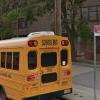Bus: (5, 29, 76, 100)
